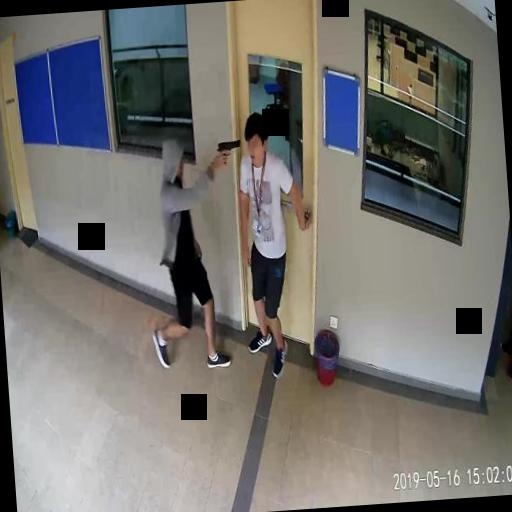Handgun: (213, 136, 245, 170)
